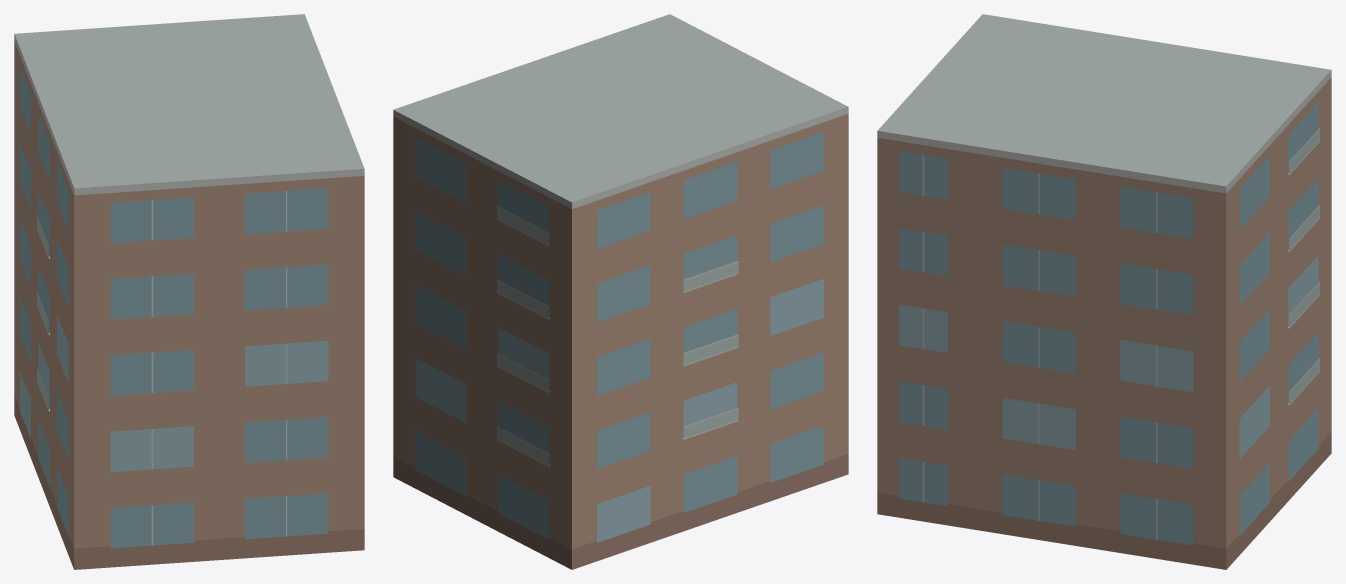
Rendered from survey-upis-32961294.glb.
3 views of the same model, side by side, from view 1: azimuth 30°, elevation 25°; view 2: azimuth 150°, elevation 25°; view 3: azimuth 270°, elevation 25° (orthographic). The views are drawn at different scales.
Visible parts, largest first — view 1: survey-upis-32961294.tmp; view 2: survey-upis-32961294.tmp; view 3: survey-upis-32961294.tmp.
Part boxes in pixels (bbox=[...]): survey-upis-32961294.tmp: bbox=[14, 14, 364, 569]; survey-upis-32961294.tmp: bbox=[393, 14, 848, 569]; survey-upis-32961294.tmp: bbox=[877, 14, 1331, 569].
Bounding box in the file's own units: 12.84 × 13.3 × 14.29.
